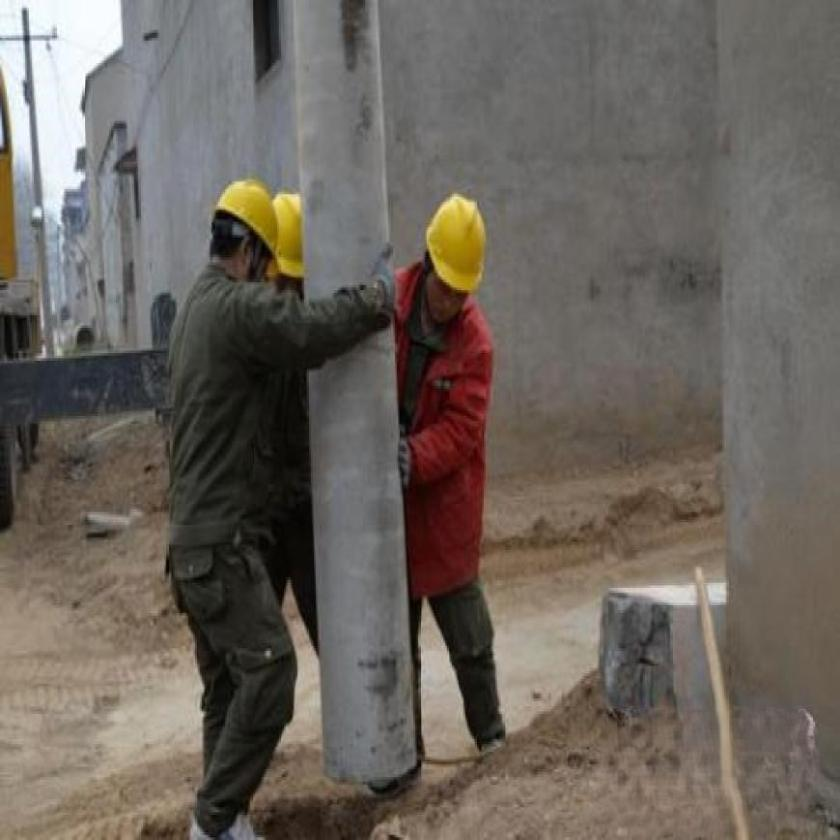Con_casco: (417, 184, 496, 338), (210, 170, 290, 300)
